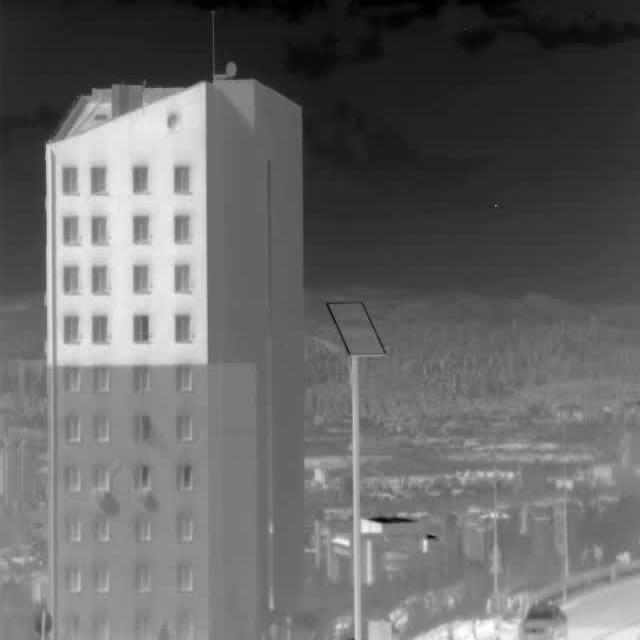Car: (516, 598, 567, 640)
